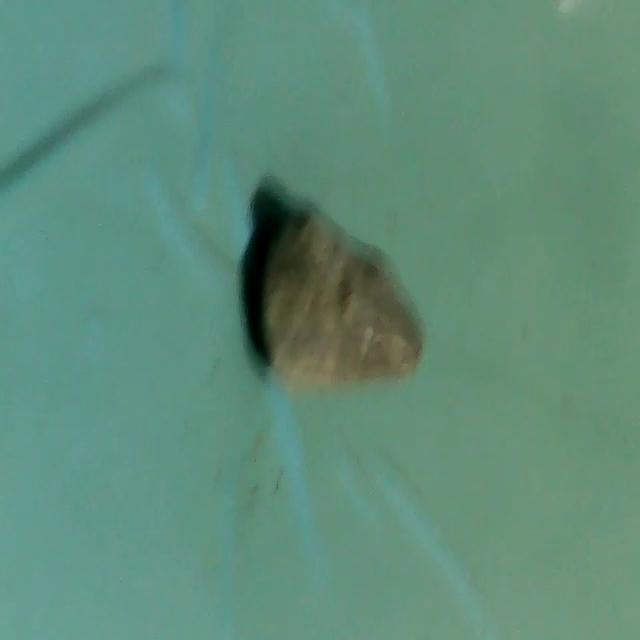rock: (250, 190, 431, 398)
